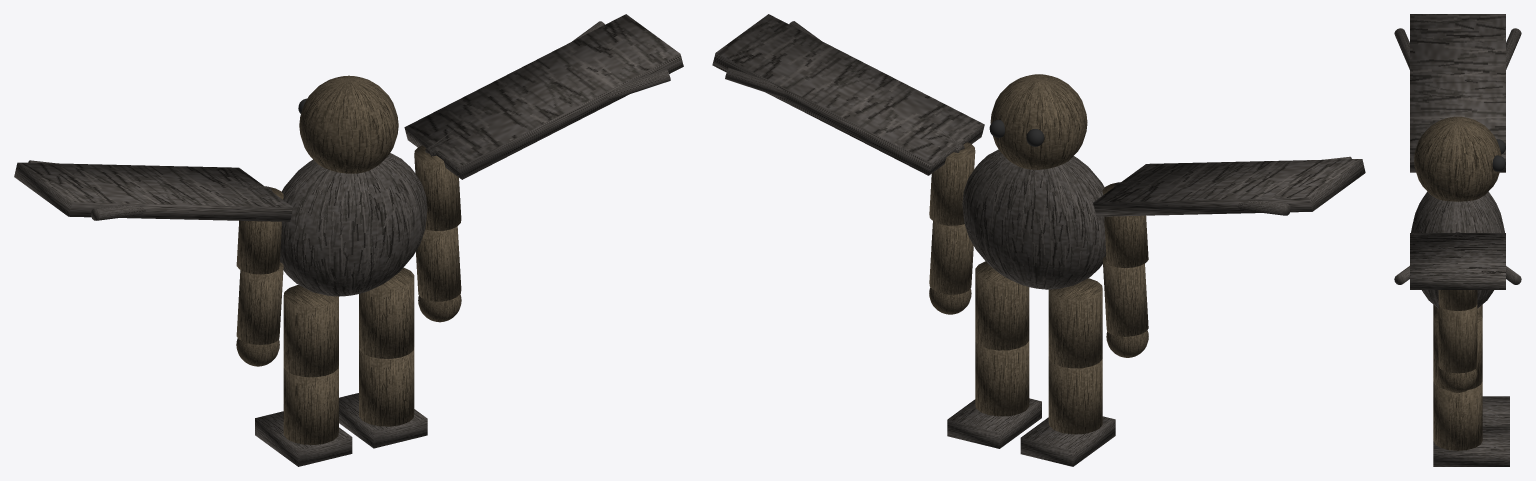
File: sasabonsam.glb
The picture shows the model from 3 angles, left to right: view 1: azimuth 30°, elevation 25°; view 2: azimuth 150°, elevation 25°; view 3: azimuth 270°, elevation 25°; orthographic projection. The views are drawn at different scales.
Parts seen in each view (by area): view 1: Wing.001, Torso, Wing, Head, ThighL, ThighR, ShinR, ShinL, ForearmL, ForearmR, UpperArmR, FootL (+6 smaller); view 2: Wing.001, Torso, Wing, Head, ThighL, ThighR, ShinR, ShinL, ForearmL, ForearmR, FootL, FootR (+5 smaller); view 3: Wing, Head, Wing.001, Torso, ShinR, ForearmR, FootR, ThighR, FootL, UpperArmR, HandR, Finger (+4 smaller).
Part boxes in pixels (x1=…): Wing.001: x1=404, y1=14, x2=683, y2=179; Torso: x1=280, y1=153, x2=427, y2=296; Wing: x1=14, y1=162, x2=293, y2=221; Head: x1=299, y1=75, x2=398, y2=173; ThighL: x1=283, y1=285, x2=338, y2=377; ThighR: x1=359, y1=267, x2=414, y2=358; ShinR: x1=359, y1=347, x2=414, y2=426; ShinL: x1=283, y1=366, x2=338, y2=444; ForearmL: x1=236, y1=262, x2=283, y2=344; ForearmR: x1=416, y1=226, x2=461, y2=301; UpperArmR: x1=414, y1=145, x2=461, y2=230; FootL: x1=255, y1=411, x2=352, y2=466; Wing.001: x1=712, y1=14, x2=984, y2=175; Torso: x1=962, y1=149, x2=1106, y2=289; Wing: x1=1093, y1=159, x2=1365, y2=216; Head: x1=990, y1=74, x2=1087, y2=169; ThighL: x1=1048, y1=278, x2=1102, y2=368; ThighR: x1=975, y1=261, x2=1029, y2=350; ShinR: x1=975, y1=340, x2=1029, y2=416; ShinL: x1=1048, y1=356, x2=1102, y2=434; ForearmL: x1=1102, y1=256, x2=1148, y2=336; ForearmR: x1=929, y1=221, x2=973, y2=294; FootL: x1=1020, y1=416, x2=1115, y2=466; FootR: x1=947, y1=398, x2=1041, y2=448; Wing: x1=1410, y1=14, x2=1505, y2=172; Head: x1=1414, y1=116, x2=1501, y2=201; Wing.001: x1=1410, y1=233, x2=1505, y2=289; Torso: x1=1411, y1=191, x2=1504, y2=308; ShinR: x1=1433, y1=381, x2=1482, y2=450; ForearmR: x1=1438, y1=304, x2=1477, y2=373; FootR: x1=1433, y1=429, x2=1509, y2=466; ThighR: x1=1433, y1=312, x2=1482, y2=389; FootL: x1=1482, y1=396, x2=1509, y2=428; UpperArmR: x1=1438, y1=290, x2=1477, y2=310; HandR: x1=1438, y1=368, x2=1477, y2=392; Finger: x1=1394, y1=28, x2=1409, y2=69.
Bounding box in the file's own units: 1.79 × 1 × 0.3621.
4 materials, 3 textured.
